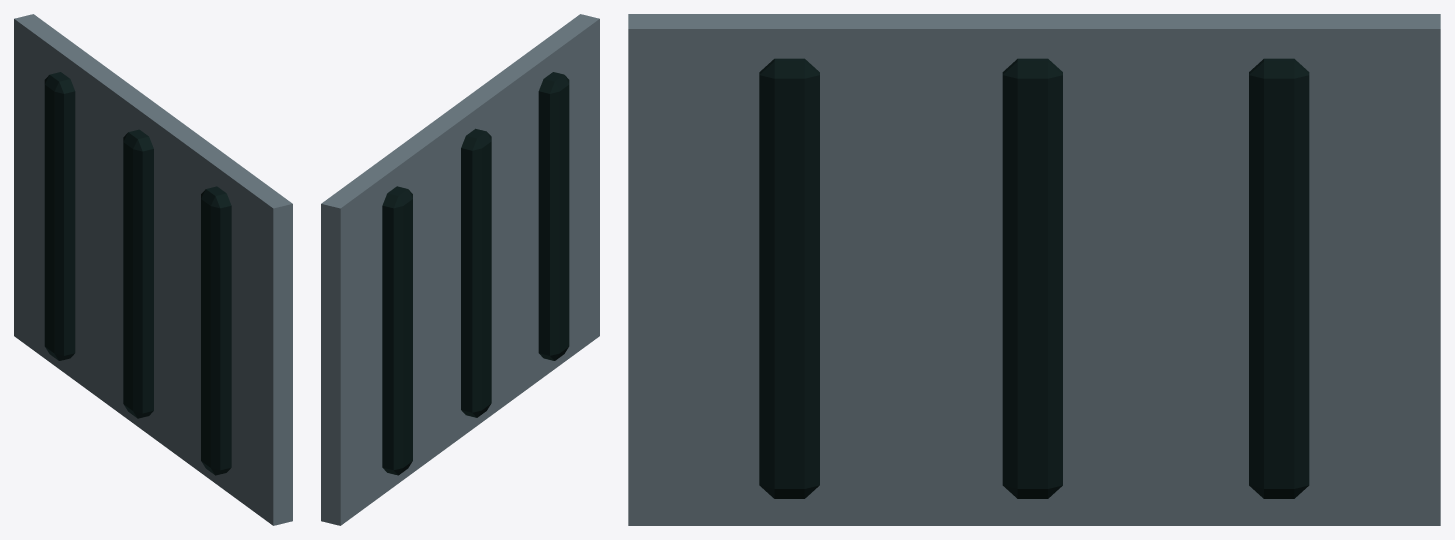
File: plaka 12 emboss.fbx
3 renders of one model, left to right at view 1: azimuth 30°, elevation 25°; view 2: azimuth 150°, elevation 25°; view 3: azimuth 270°, elevation 25°, orthographic. The views are drawn at different scales.
Visible parts, largest first — view 1: polySurface1990; view 2: polySurface1990; view 3: polySurface1990.
Part boxes in pixels (left/top/right/bottom): polySurface1990: left=14, top=14, right=292, bottom=525; polySurface1990: left=321, top=14, right=599, bottom=525; polySurface1990: left=628, top=14, right=1440, bottom=525.
Size of the model in its own units: 20.11 by 139 by 206.
